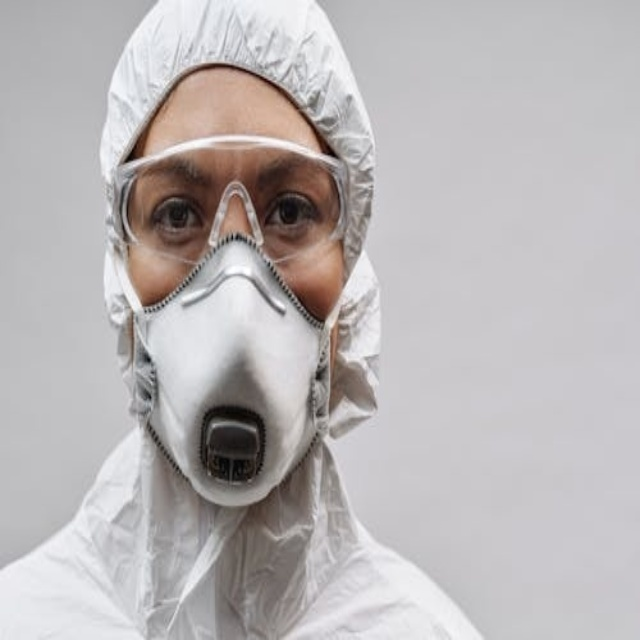Gafas: (111, 134, 353, 262)
Mascara: (127, 210, 334, 509)
